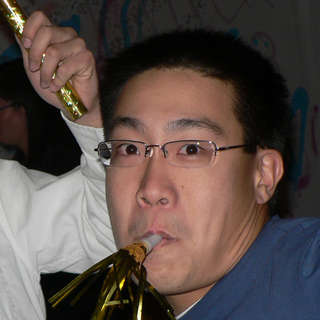eye: (173, 138, 217, 162), (112, 139, 143, 161)
